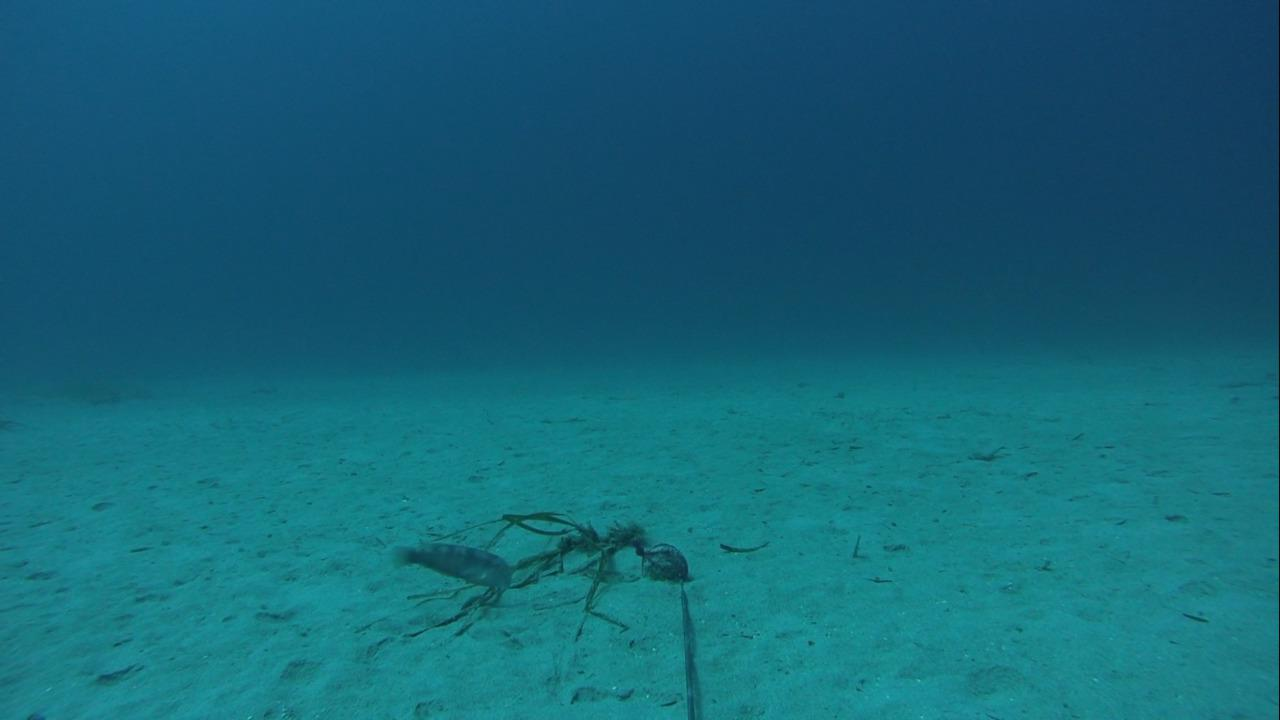raor: (384, 537, 515, 593)
